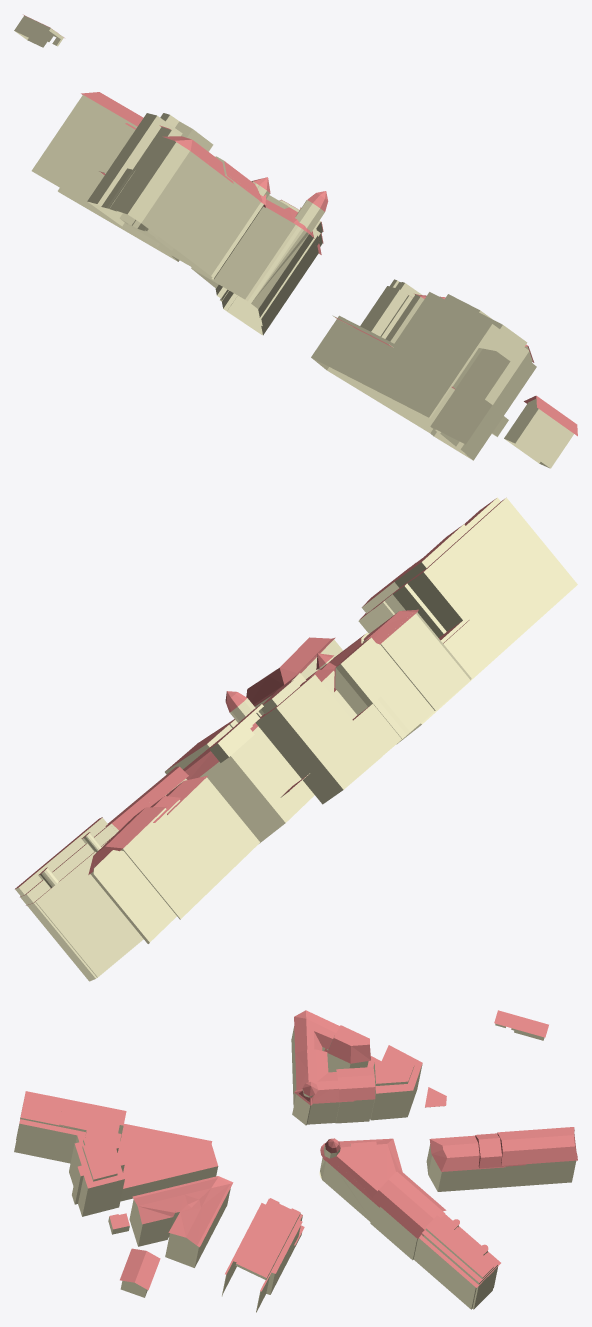
Rendered from tile_001.glb.
3 views of the same model, one above another, from view 1: azimuth 30°, elevation 25°; view 2: azimuth 150°, elevation 25°; view 3: azimuth 270°, elevation 25° (orthographic). The views are drawn at different scales.
Visible parts, largest first — view 1: Batched_Building_ID_C422B8E8-D7EA-4E2D-B245-4A774641D6AB, Batched_Building_ID_7DC2BC56-FB2F-4AF5-A1DD-E2B29EE7A5A7; view 2: Batched_Building_ID_C422B8E8-D7EA-4E2D-B245-4A774641D6AB, Batched_Building_ID_7DC2BC56-FB2F-4AF5-A1DD-E2B29EE7A5A7; view 3: Batched_Building_ID_7DC2BC56-FB2F-4AF5-A1DD-E2B29EE7A5A7, Batched_Building_ID_C422B8E8-D7EA-4E2D-B245-4A774641D6AB.
Boxes of the visible parts, <box> form: Batched_Building_ID_C422B8E8-D7EA-4E2D-B245-4A774641D6AB: <box>14,15,573,468</box>; Batched_Building_ID_7DC2BC56-FB2F-4AF5-A1DD-E2B29EE7A5A7: <box>23,14,577,436</box>; Batched_Building_ID_C422B8E8-D7EA-4E2D-B245-4A774641D6AB: <box>15,497,577,981</box>; Batched_Building_ID_7DC2BC56-FB2F-4AF5-A1DD-E2B29EE7A5A7: <box>15,498,504,905</box>; Batched_Building_ID_7DC2BC56-FB2F-4AF5-A1DD-E2B29EE7A5A7: <box>19,1010,577,1291</box>; Batched_Building_ID_C422B8E8-D7EA-4E2D-B245-4A774641D6AB: <box>14,1023,576,1312</box>.
Bounding box in the file's own units: 110 × 106 × 230.
